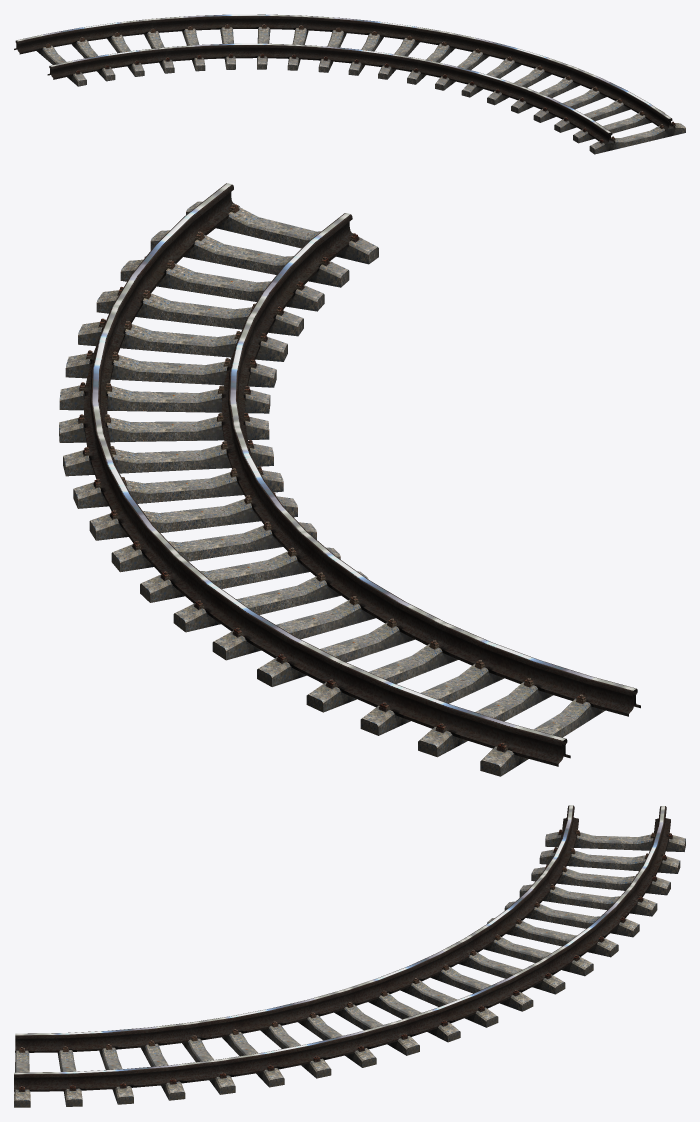
The model's file is Beton_rail_90.FBX.
3 renders of one model, top to bottom at view 1: azimuth 30°, elevation 25°; view 2: azimuth 150°, elevation 25°; view 3: azimuth 270°, elevation 25°, orthographic. The views are drawn at different scales.
Visible parts, largest first — view 1: Beton_rail_90_LOD0; view 2: Beton_rail_90_LOD0; view 3: Beton_rail_90_LOD0.
Boxes of the visible parts, x1,y1,x2,y2 form: Beton_rail_90_LOD0: [14, 14, 685, 154]; Beton_rail_90_LOD0: [59, 183, 640, 776]; Beton_rail_90_LOD0: [14, 805, 685, 1107].
Size of what is drawn, in the model's own units: 11.86 by 12.1 by 0.4774.
